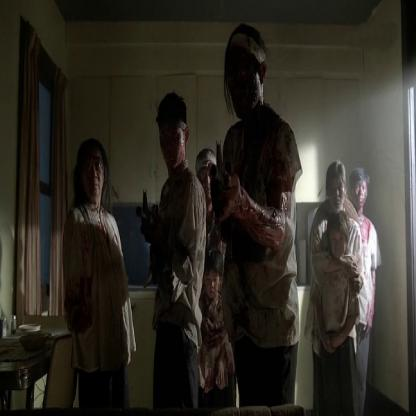Gun: (134, 186, 164, 251), (208, 135, 232, 196)
